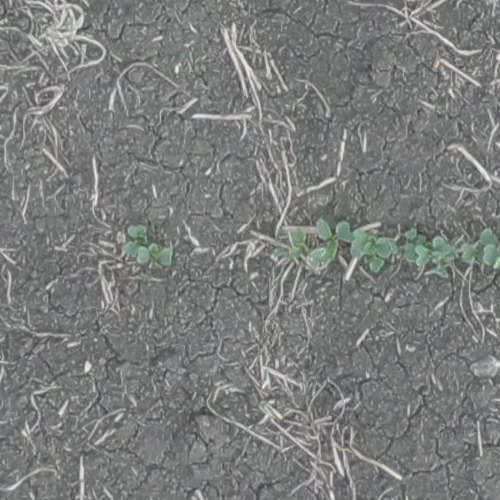clumped: (291, 218, 391, 274), (402, 229, 456, 278), (124, 225, 174, 270), (461, 227, 499, 274)
